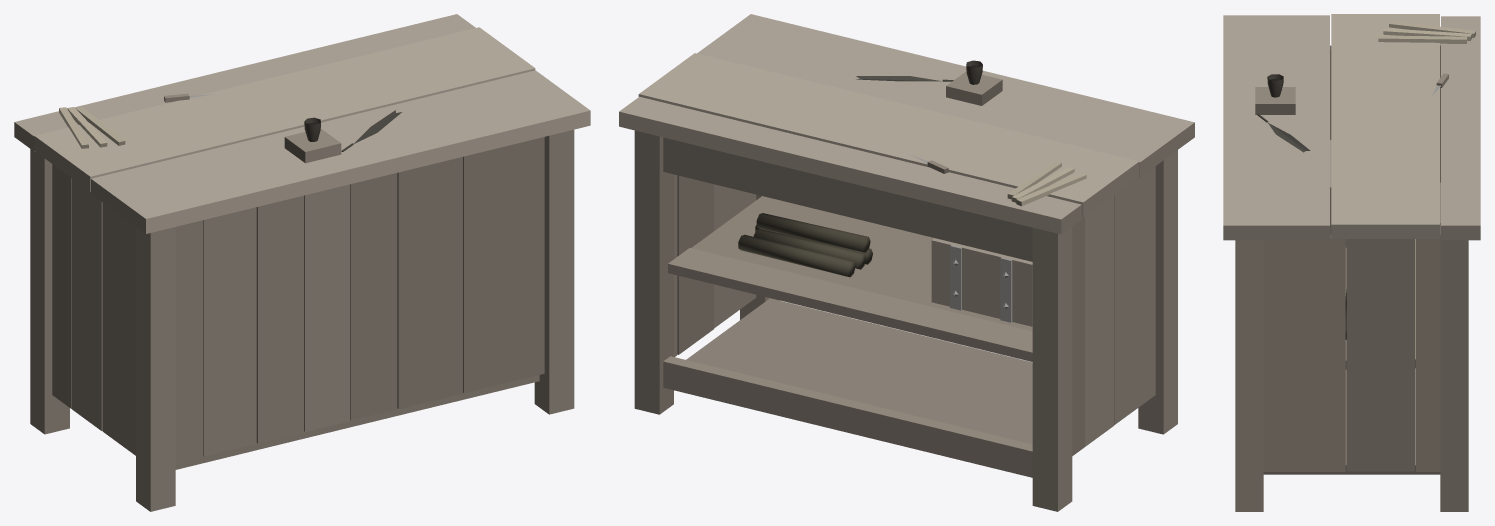
File: prop_desk.glb
3 views of the same model, side by side, from view 1: azimuth 30°, elevation 25°; view 2: azimuth 150°, elevation 25°; view 3: azimuth 270°, elevation 25° (orthographic). The views are drawn at different scales.
Visible parts, largest first — view 1: Desk; view 2: Desk, DeskSoft; view 3: Desk, DeskSoft.
Part boxes in pixels (x1=…): Desk: x1=14, y1=14, x2=590, y2=511; Desk: x1=619, y1=14, x2=1194, y2=511; DeskSoft: x1=738, y1=60, x2=982, y2=277; Desk: x1=1223, y1=14, x2=1480, y2=511; DeskSoft: x1=1267, y1=74, x2=1346, y2=339.
Bounding box in the file's own units: 1.24 × 0.88 × 0.64.
